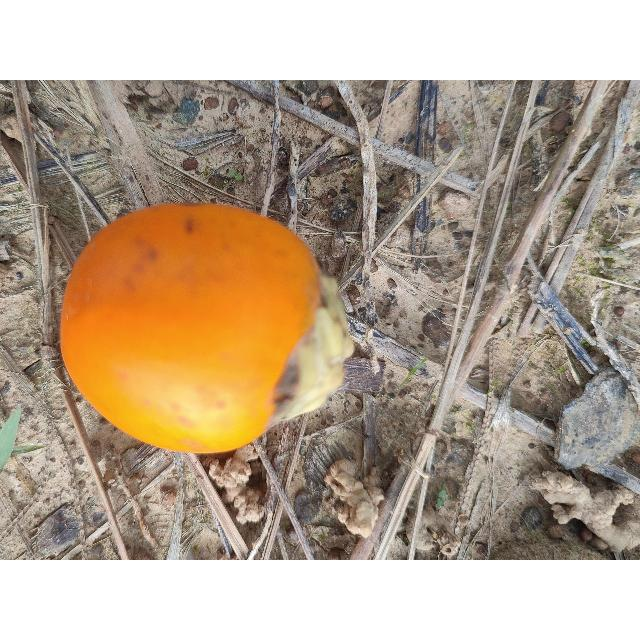good: (58, 203, 352, 456)
